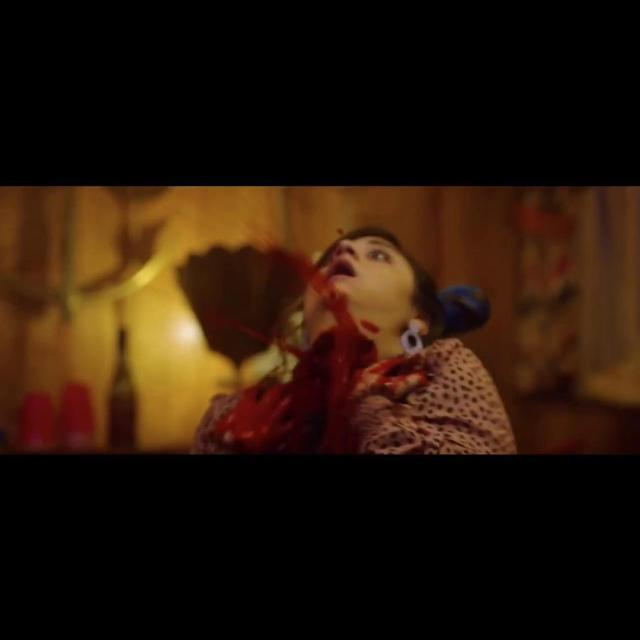blood: (210, 242, 430, 454), (333, 228, 344, 254)
